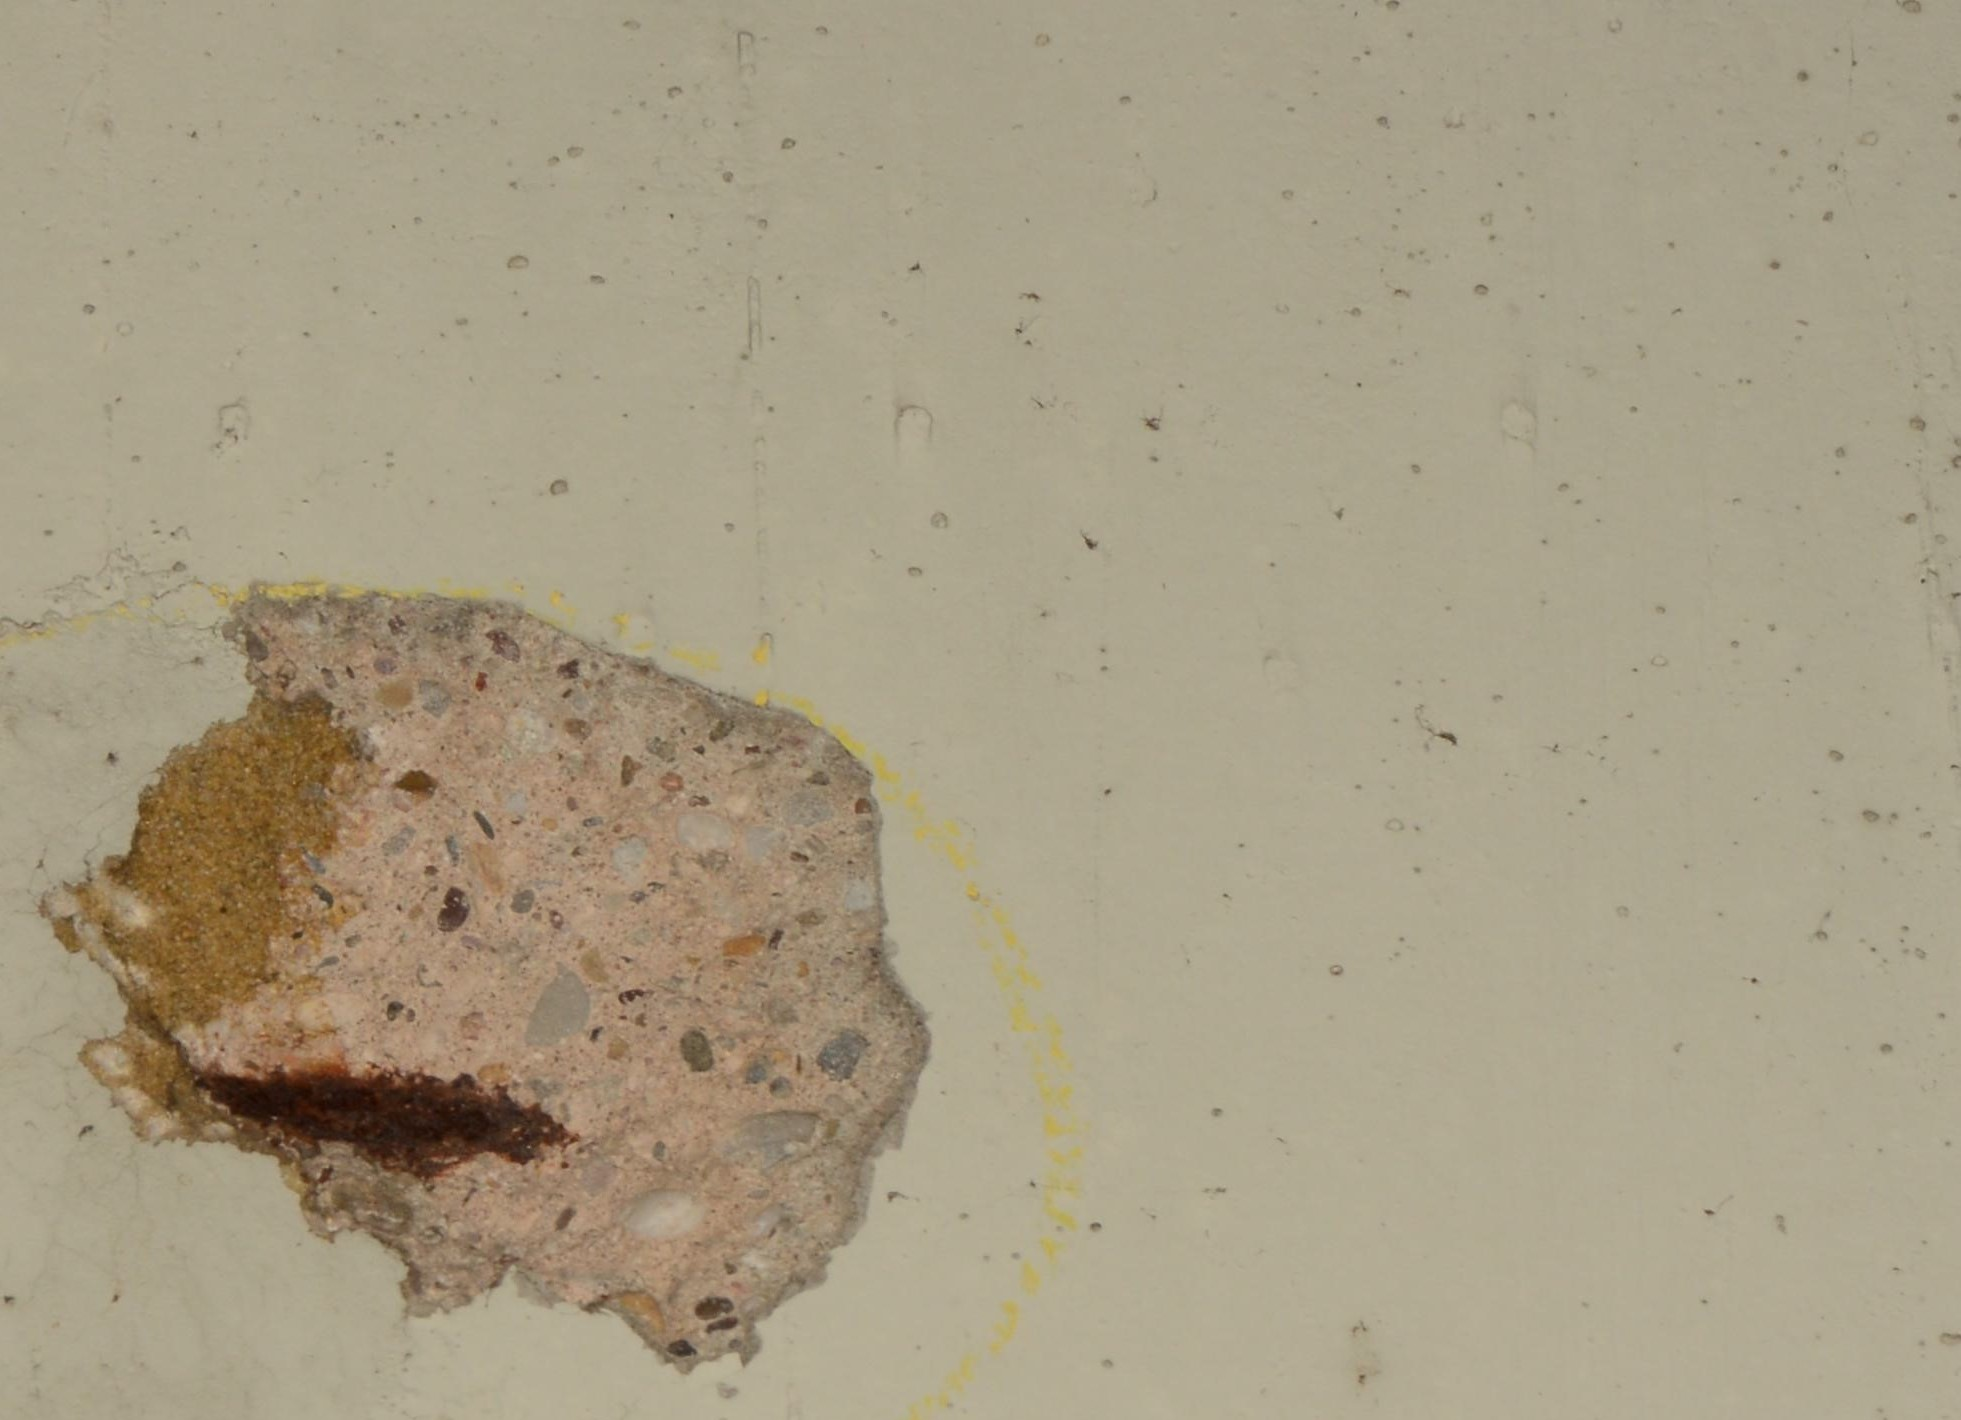Exposed reinforcement: (192, 1068, 582, 1180)
Spalling: (35, 584, 930, 1374)
